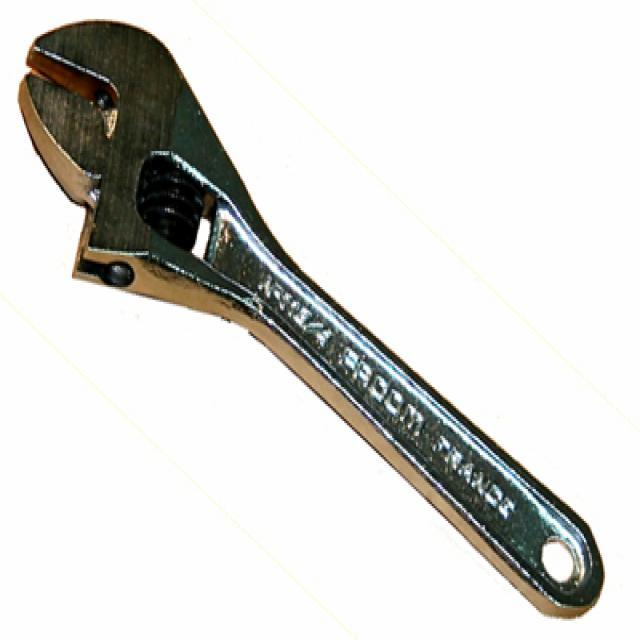wrench: (13, 11, 609, 631)
